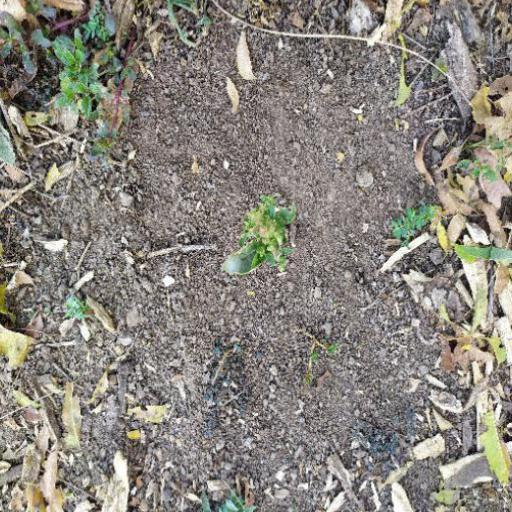weed: (216, 192, 311, 296)
